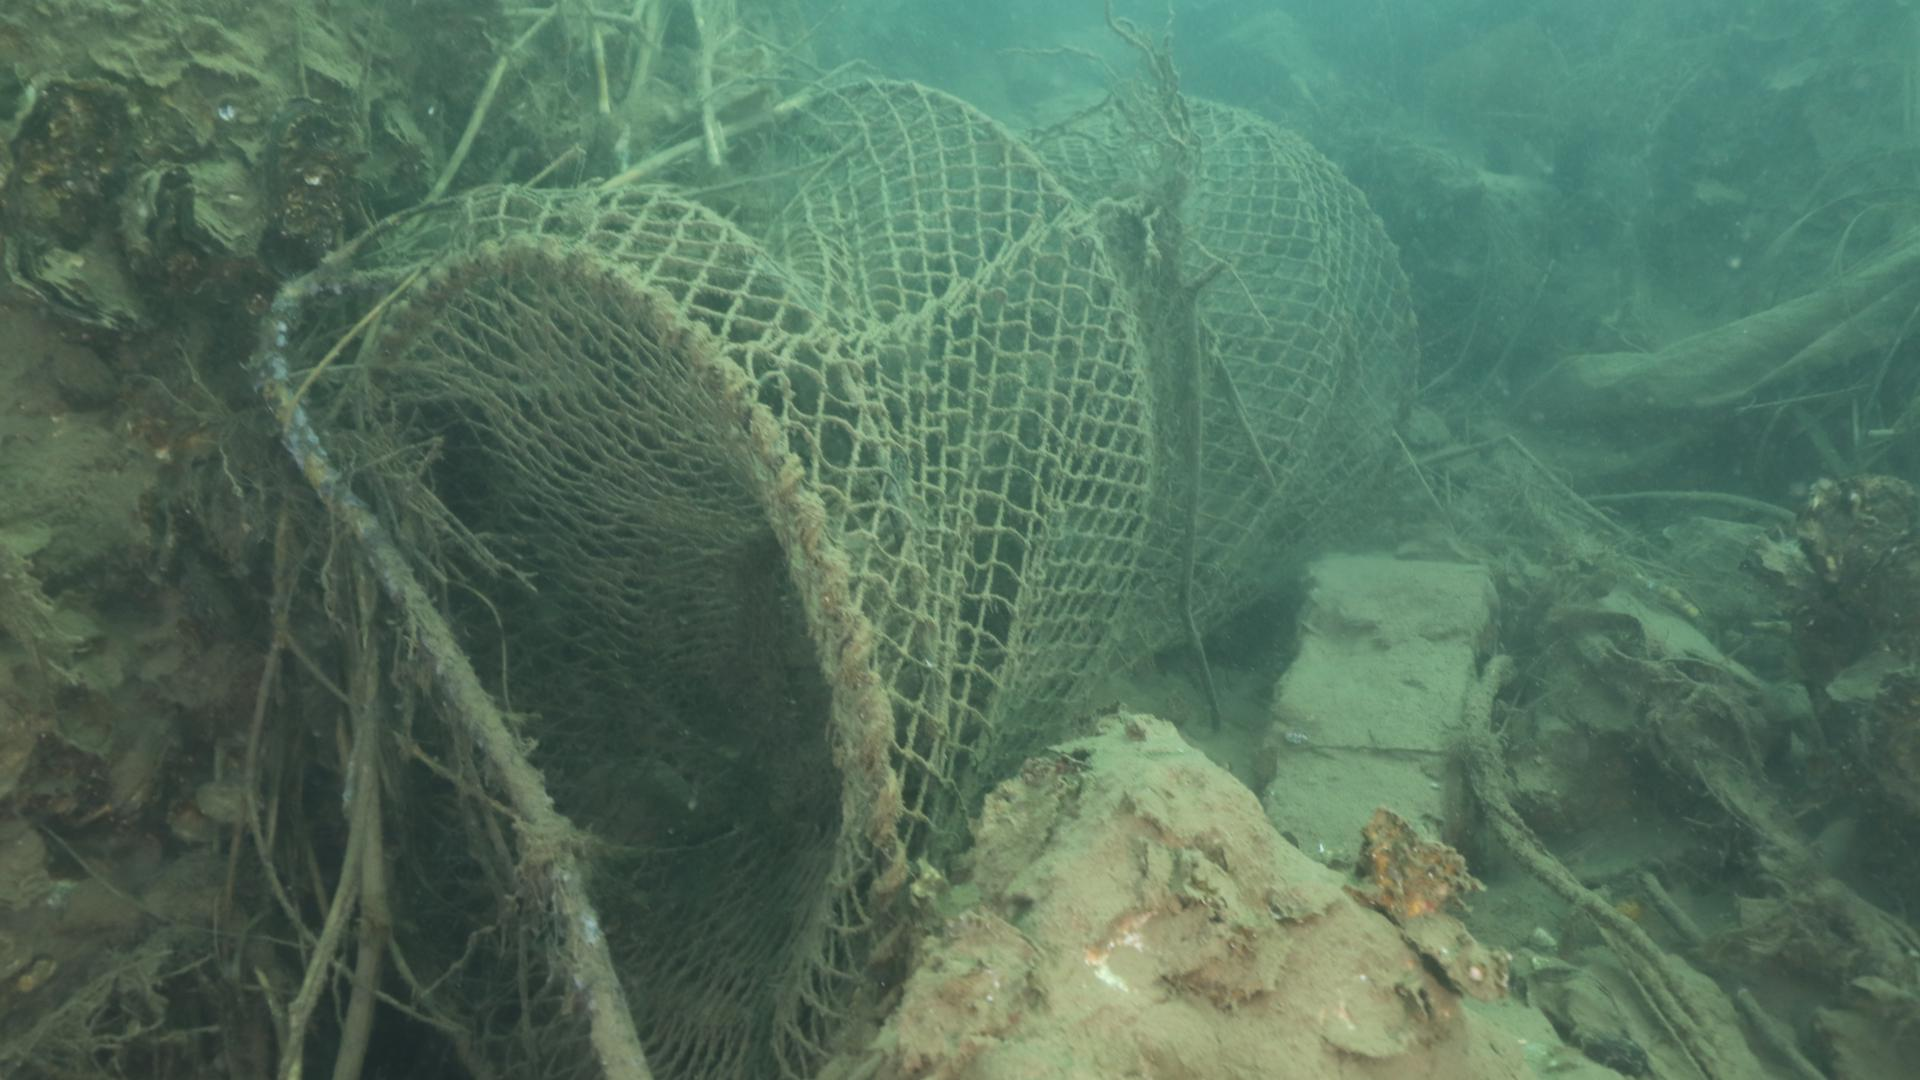rope: (261, 281, 654, 1080)
spring fish trap: (294, 75, 1422, 1080)
